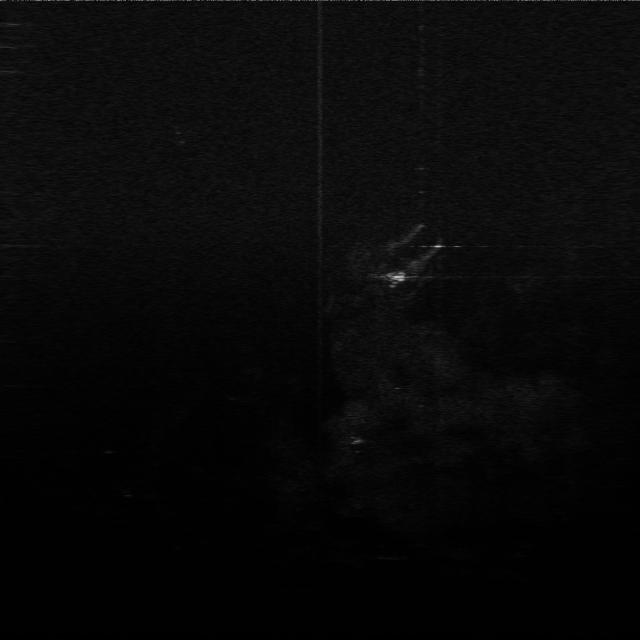rov: (380, 268, 410, 288)
